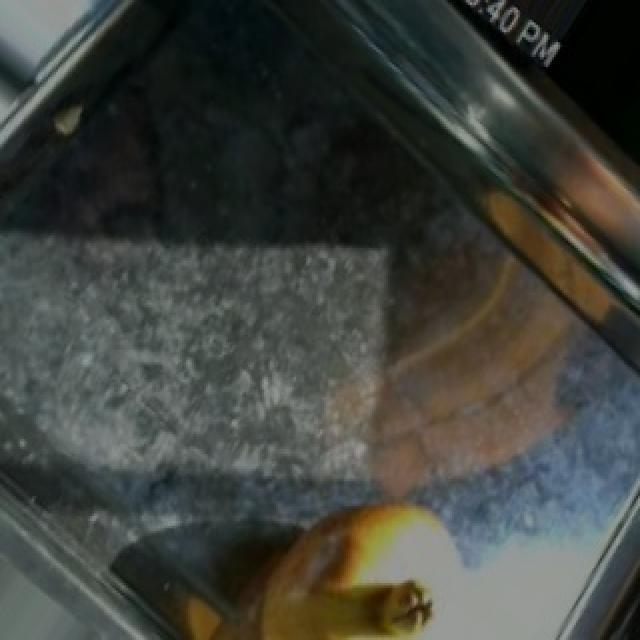fruit: (232, 476, 486, 640)
